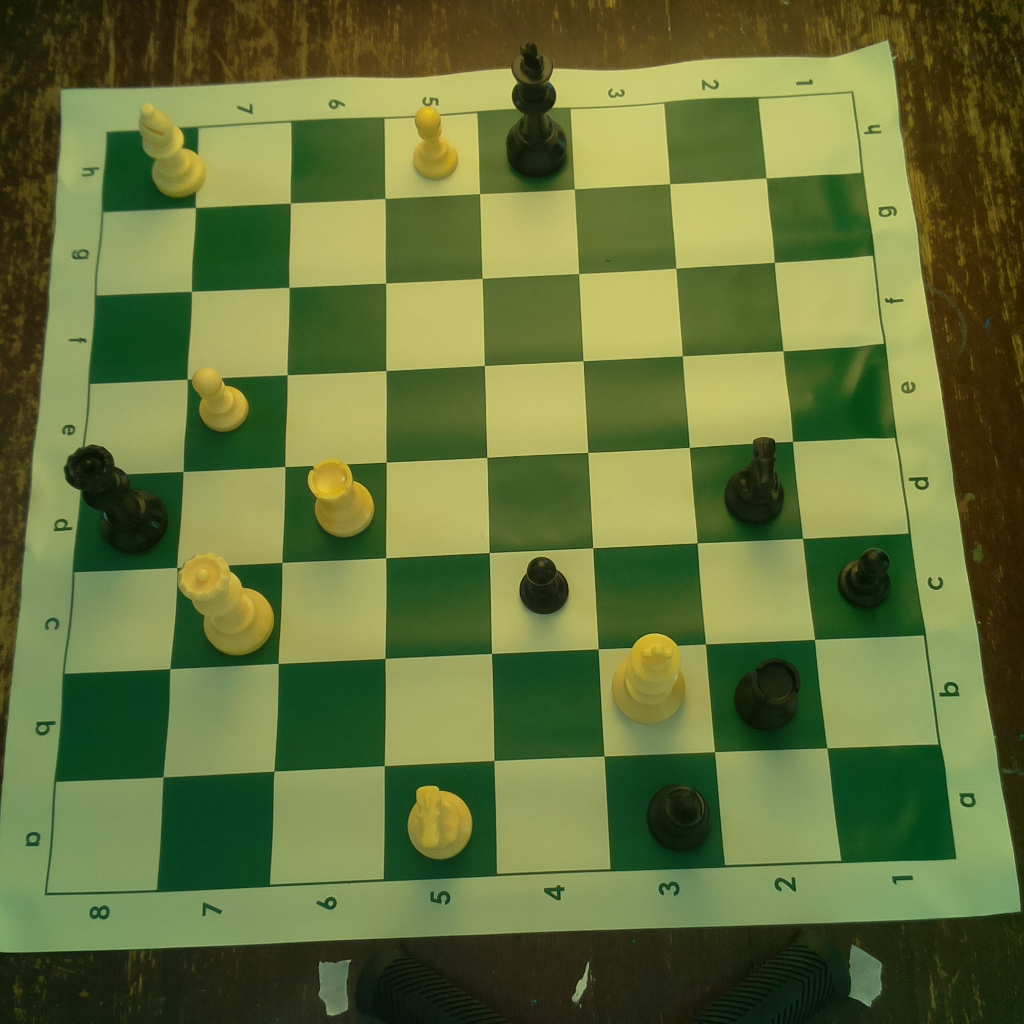black_bishop: (642, 773, 716, 853)
black_king: (503, 34, 575, 177)
black_knight: (720, 432, 788, 527)
black_pawn: (836, 539, 898, 610), (512, 553, 575, 618)
black_queen: (62, 443, 171, 552)
black_rook: (733, 652, 805, 734)
file_a: (44, 743, 958, 896)
file_b: (54, 634, 940, 784)
file_c: (64, 532, 927, 673)
file_d: (73, 436, 912, 570)
file_e: (83, 343, 898, 478)
file_f: (89, 256, 884, 384)
file_g: (96, 173, 873, 297)
file_h: (103, 92, 863, 214)
outline: (46, 92, 957, 896)
rank_1: (759, 93, 955, 864)
rank_2: (666, 96, 841, 867)
rank_3: (571, 101, 727, 873)
rank_4: (476, 106, 610, 874)
rank_5: (383, 112, 499, 882)
rank_6: (267, 122, 388, 882)
rank_7: (158, 121, 290, 891)
rank_8: (45, 126, 199, 893)
white_bishop: (136, 93, 212, 200)
white_king: (608, 628, 692, 727)
white_knight: (399, 778, 476, 860)
white_pawn: (188, 364, 257, 432), (408, 100, 466, 180)
white_queen: (172, 552, 279, 653)
white_rook: (298, 452, 385, 543)
